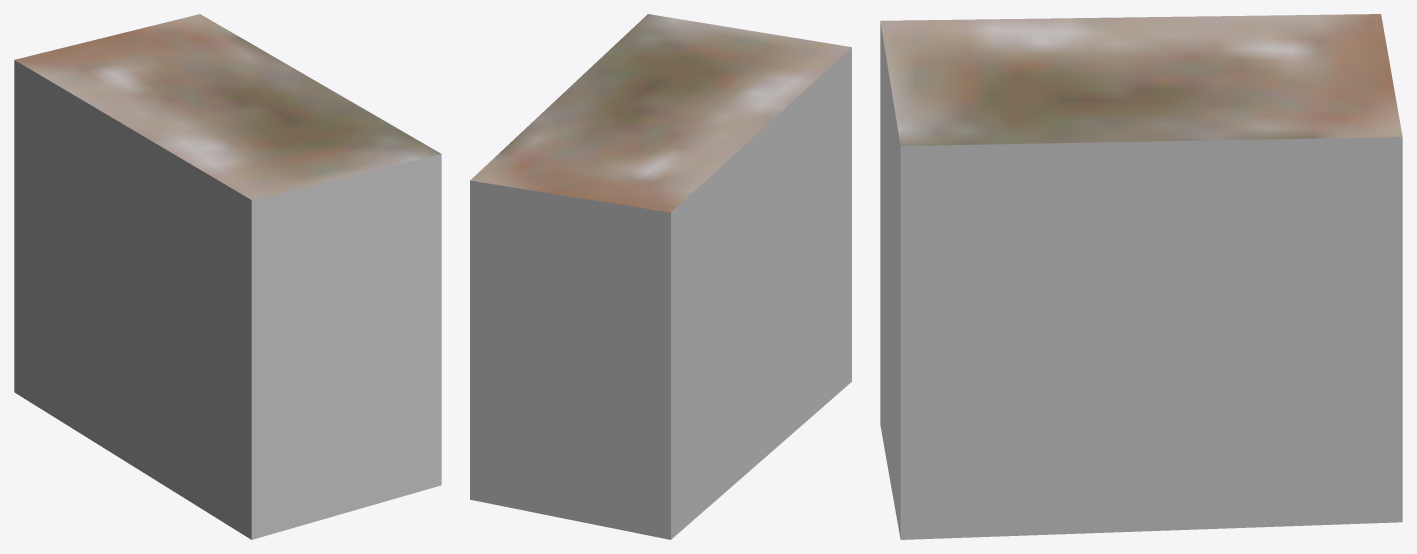
File: DEBW_0010007THYF.gltf
3 renders of one model, left to right at view 1: azimuth 30°, elevation 25°; view 2: azimuth 150°, elevation 25°; view 3: azimuth 270°, elevation 25°, orthographic. The views are drawn at different scales.
Parts seen in each view (by area): view 1: Z_UP; view 2: Z_UP; view 3: Z_UP.
Part boxes in pixels (<box>): Z_UP: <box>14,14,441,539</box>; Z_UP: <box>470,14,851,539</box>; Z_UP: <box>880,14,1402,539</box>.
Size of the model in its own units: 2.44 by 3.52 by 4.12.
2 materials, 1 textured.
